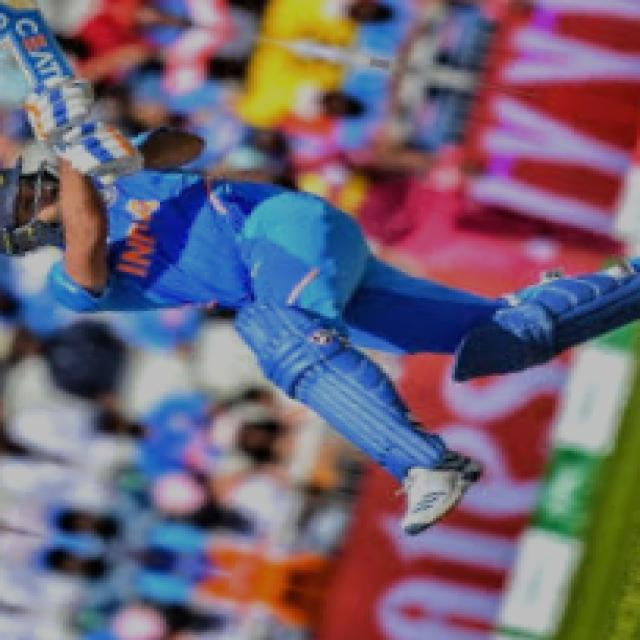toe: (0, 0, 44, 29)
